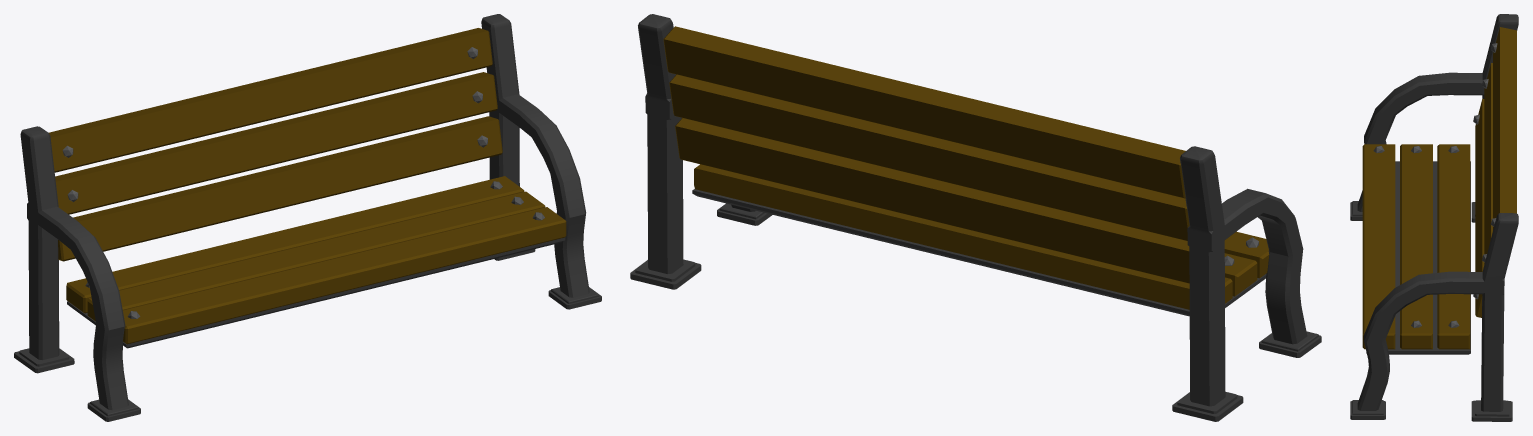
Rendered from Bench.fbx.
3 renders of one model, left to right at view 1: azimuth 30°, elevation 25°; view 2: azimuth 150°, elevation 25°; view 3: azimuth 270°, elevation 25°, orthographic. The views are drawn at different scales.
Visible parts, largest first — view 1: group6_pasted__pCube3; view 2: group6_pasted__pCube3; view 3: group6_pasted__pCube3.
Part boxes in pixels (x1=…): group6_pasted__pCube3: x1=14, y1=14, x2=601, y2=421; group6_pasted__pCube3: x1=630, y1=14, x2=1321, y2=421; group6_pasted__pCube3: x1=1350, y1=14, x2=1518, y2=421.
Size of the model in its own units: 232 by 99.2 by 76.58.
